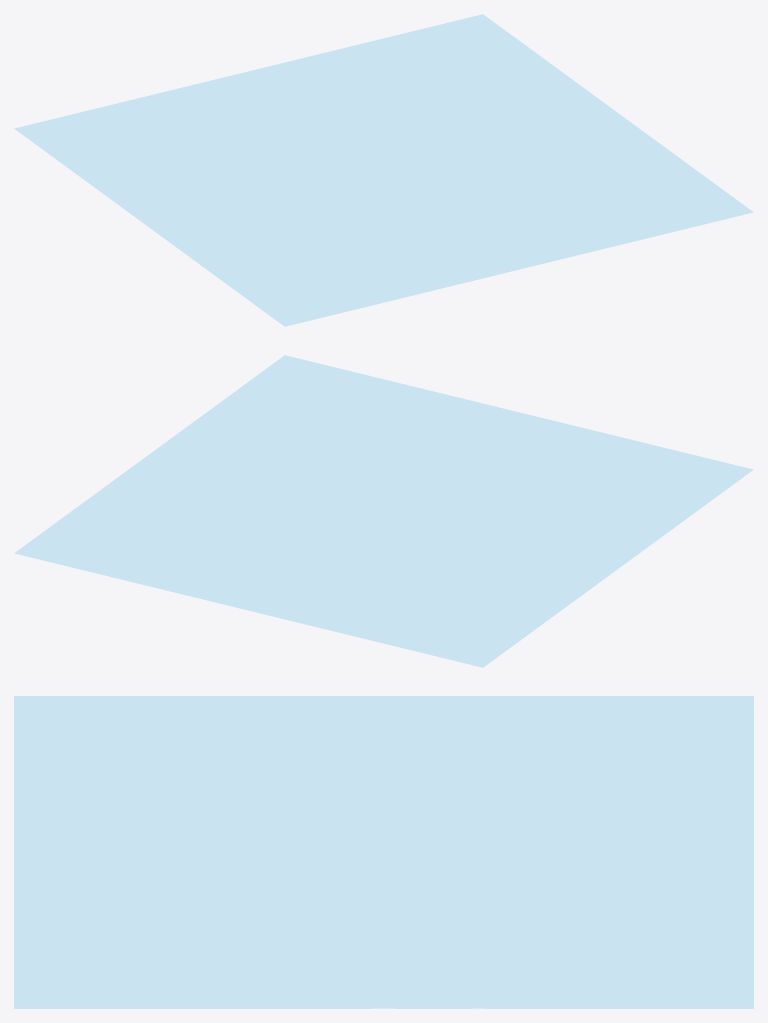
Rendered from Isle_water.glb.
3 views of the same model, one above another, from view 1: azimuth 30°, elevation 25°; view 2: azimuth 150°, elevation 25°; view 3: azimuth 270°, elevation 25° (orthographic). The views are drawn at different scales.
Parts seen in each view (by area): view 1: Ground.002; view 2: Ground.002; view 3: Ground.002.
Part boxes in pixels (box(x1,y1,x2,y2)): Ground.002: box(15, 14, 752, 326); Ground.002: box(15, 355, 752, 667); Ground.002: box(14, 696, 753, 1008).
Bounding box in the file's own units: 238 × 0.00436 × 238.
